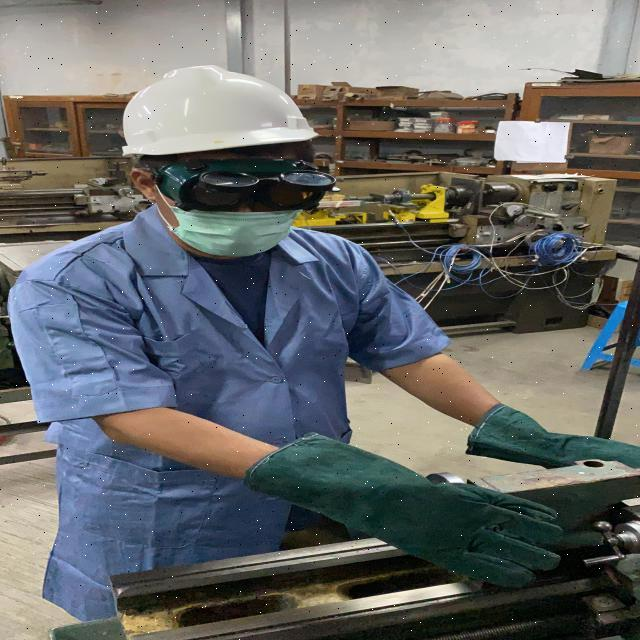Hard_hat: (108, 62, 321, 167)
